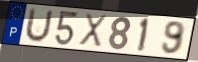1: (135, 17, 150, 53)
5: (54, 9, 80, 46)
8: (107, 15, 132, 51)
9: (160, 20, 188, 56)
U: (22, 6, 55, 44)
X: (77, 12, 108, 50)
